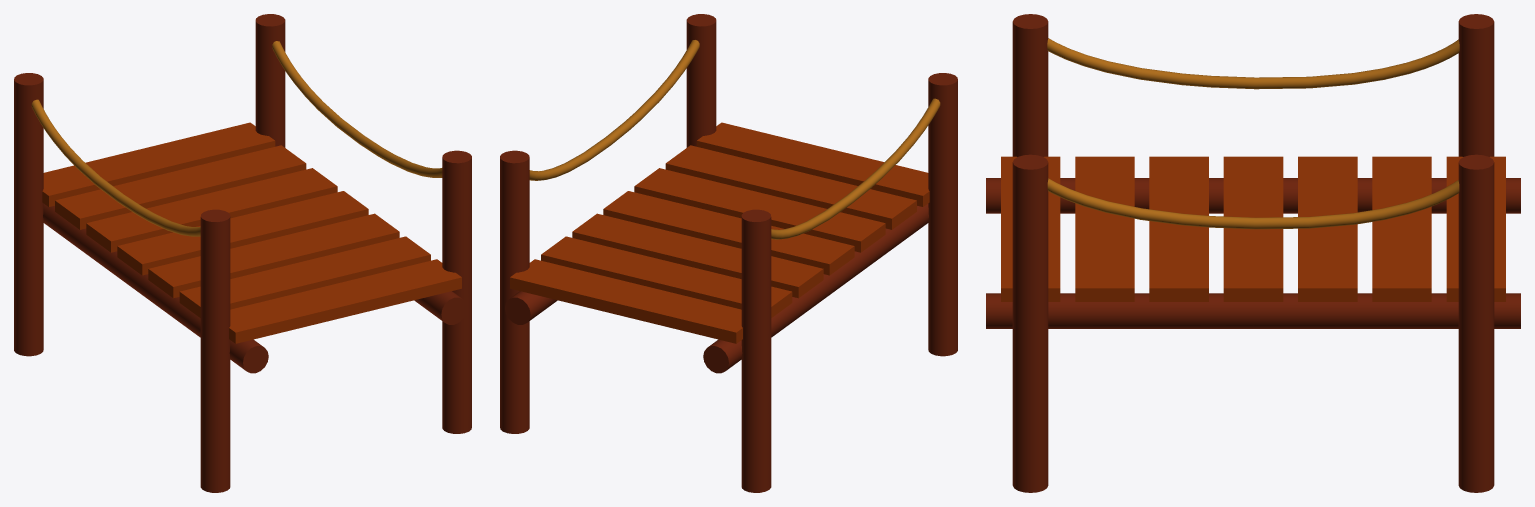
Rendered from bridge1.fbx.
3 renders of one model, left to right at view 1: azimuth 30°, elevation 25°; view 2: azimuth 150°, elevation 25°; view 3: azimuth 270°, elevation 25°, orthographic. The views are drawn at different scales.
Parts seen in each view (by area): view 1: Cylinder, Cylinder_1, Cube_0, Cylinder_4, Cube_0_6, Cube_0_5, Cube_0_7, Cube_0_3, Cube_0_2, Cube_0_4, Cylinder_2, Cylinder_3 (+3 smaller); view 2: Cylinder_1, Cylinder, Cube_0_7, Cylinder_3, Cube_0_2, Cube_0_3, Cube_0, Cube_0_5, Cube_0_6, Cube_0_4, Cylinder_2, Cylinder_4 (+3 smaller); view 3: Cylinder_5, Cylinder_4, Cylinder_3, Cube_0_4, Cube_0_5, Cube_0_3, Cube_0_6, Cube_0_2, Sweep_1, Sweep, Cylinder, Cylinder_1 (+3 smaller).
Boxes of the visible parts, x1,y1,x2,y2 form: Cylinder: (200,209,230,492); Cylinder_1: (14,73,43,356); Cube_0: (229,259,461,343); Cylinder_4: (442,150,471,433); Cube_0_6: (55,145,306,229); Cube_0_5: (86,168,337,252); Cube_0_7: (42,122,275,206); Cube_0_3: (148,213,399,298); Cube_0_2: (179,236,430,317); Cube_0_4: (117,191,368,275); Cylinder_2: (43,204,268,373); Cylinder_3: (255,14,285,147); Cylinder_1: (741,209,771,492); Cylinder: (928,73,957,356); Cube_0_7: (510,259,742,343); Cylinder_3: (500,150,529,433); Cube_0_2: (665,145,916,229); Cube_0_3: (634,168,885,252); Cube_0: (696,122,929,206); Cube_0_5: (572,213,823,298); Cube_0_6: (541,236,792,317); Cube_0_4: (603,191,854,275); Cylinder_2: (703,204,928,373); Cylinder_4: (686,14,716,147); Cylinder_5: (986,293,1520,328); Cylinder_4: (1012,154,1048,492); Cylinder_3: (1458,154,1494,492); Cube_0_4: (1223,156,1283,301); Cube_0_5: (1298,156,1357,301); Cube_0_3: (1149,156,1208,301); Cube_0_6: (1372,156,1431,301); Cube_0_2: (1075,156,1134,301); Sweep_1: (1047,178,1459,229); Sweep: (1047,38,1459,89); Cylinder: (1012,14,1048,156); Cylinder_1: (1458,14,1494,156).
Size of the model in its own units: 124 by 120 by 180.
